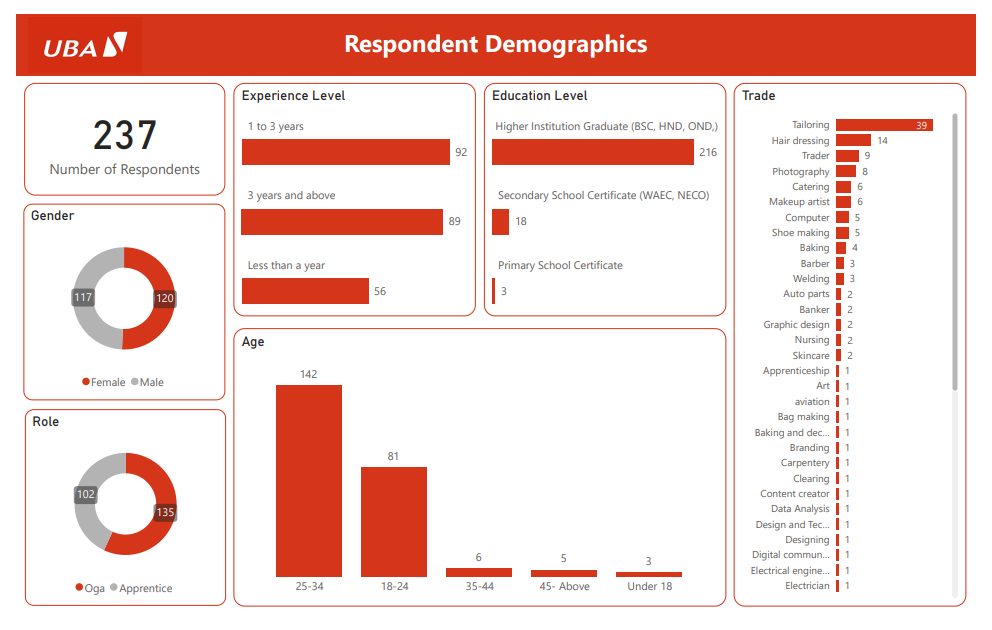

This screenshot's page, from the dashboard's own definition file:
{"tool":"powerbi","page":{"name":"Respondent Demographics","canvas":[1280,800],"ordinal":0},"visuals":[{"type":"shape","box":[0,0,1280,720],"z":0},{"type":"shape","box":[0,0,1280,82.8],"z":1000},{"type":"image","box":[12.3,0,159.4,82.8],"z":2000},{"type":"shape","box":[0,82.8,1280,717.4],"z":3000},{"type":"clusteredColumnChart","title":"Age","fields":{"Category":["Survey.Age"],"Y":["CountNonNull(Survey.Age)"]},"box":[290.4,419.3,656.3,370.4],"z":4000},{"type":"textbox","box":[389.4,0,501.3,82.8],"z":5000},{"type":"donutChart","title":"Gender","fields":{"Category":["Survey.Gender"],"Y":["CountNonNull(Survey.Gender)"]},"box":[10.4,253.3,268.1,262],"z":6000},{"type":"donutChart","title":"Role","fields":{"Category":["Survey.Role"],"Y":["CountNonNull(Survey.Role)"]},"box":[11.9,527,268.1,262.2],"z":7000},{"type":"clusteredBarChart","title":"Education Level","fields":{"Category":["Survey.Education Level"],"Y":["Survey.Label","CountNonNull(Survey.Education Level)"]},"box":[623.7,91.9,323,311.1],"z":8000},{"type":"clusteredBarChart","title":"Trade","fields":{"Category":["Survey.Trade/Apprenticeship Program (e.g Tailoring, Hairdressing)"],"Y":["CountNonNull(Survey.Trade/Apprenticeship Program (e.g Tailoring, Hairdressing))"]},"box":[957,91.9,310,697.8],"z":9000},{"type":"clusteredBarChart","title":"Experience Level","fields":{"Category":["Survey.Experience Level"],"Y":["Survey.Label","CountNonNull(Survey.Experience Level)"]},"box":[290.4,91.9,323,311.1],"z":10000},{"type":"card","fields":{"Values":["CountNonNull(Survey.ID)"]},"box":[10.7,92,268.3,150.2],"z":11000}]}

Visuals, with their boxes in screenshot pixels (x1, y1, x2, y2), scaled from the page's 1280x800 canvas onto the 992x630 screenshot:
shape: Rect(0, 0, 991, 567)
shape: Rect(0, 0, 991, 65)
image: Rect(10, 0, 133, 65)
shape: Rect(0, 65, 991, 629)
"Age" clusteredColumnChart: Rect(225, 330, 734, 622)
textbox: Rect(302, 0, 690, 65)
"Gender" donutChart: Rect(8, 199, 216, 406)
"Role" donutChart: Rect(9, 415, 217, 621)
"Education Level" clusteredBarChart: Rect(483, 72, 734, 317)
"Trade" clusteredBarChart: Rect(742, 72, 982, 622)
"Experience Level" clusteredBarChart: Rect(225, 72, 475, 317)
card - CountNonNull(Survey.ID): Rect(8, 72, 216, 191)
